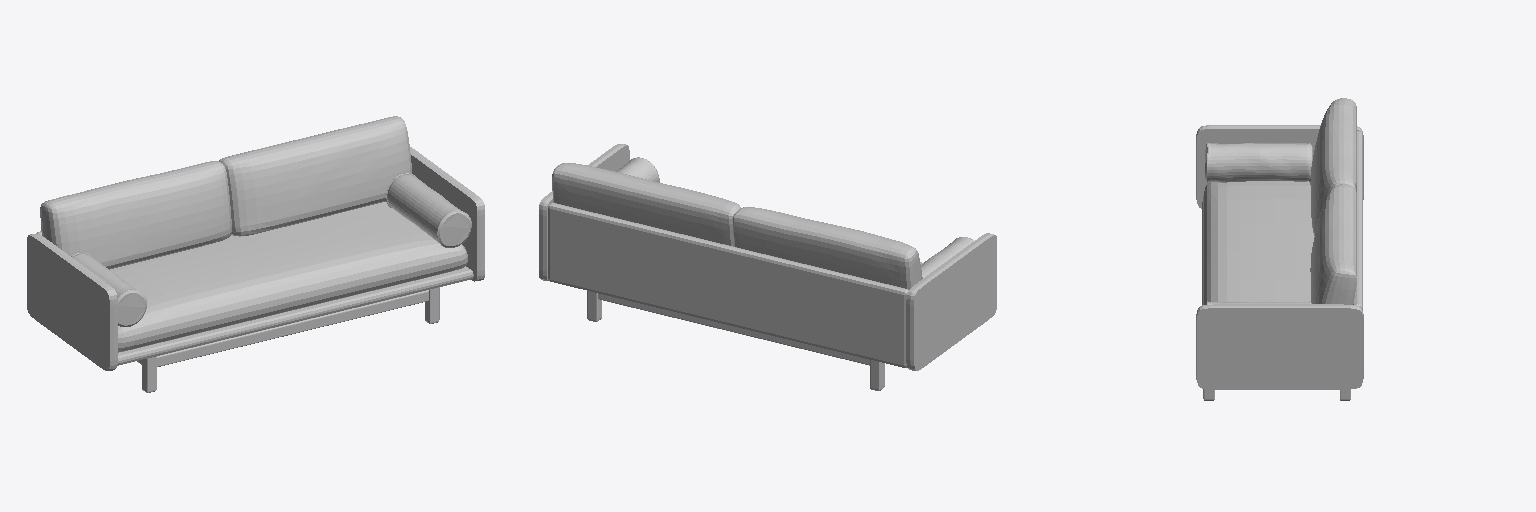
The model's file is couch_real2.obj.
The picture shows the model from 3 angles: view 1: azimuth 30°, elevation 25°; view 2: azimuth 150°, elevation 25°; view 3: azimuth 270°, elevation 25°; orthographic projection.
Parts seen in each view (by area): view 1: couch_real; view 2: couch_real; view 3: couch_real.
Boxes of the visible parts, box(x1,y1,x2,y2) form: couch_real: box(27, 116, 484, 392); couch_real: box(539, 144, 996, 390); couch_real: box(1196, 98, 1363, 400).
Size of the model in its own units: 34.6 by 13.05 by 13.38.